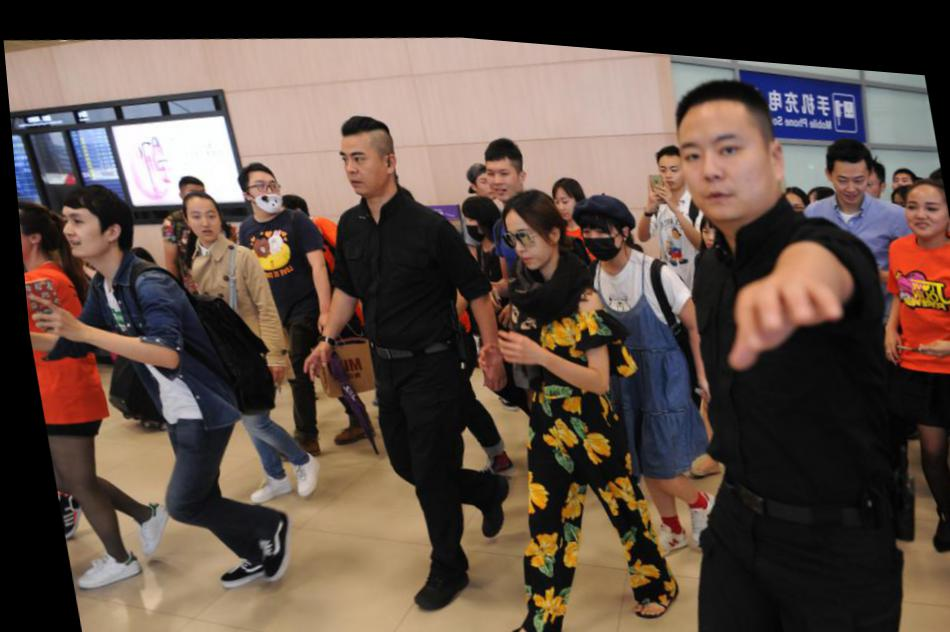NONE: (676, 108, 770, 215), (336, 134, 385, 193), (504, 210, 555, 266), (53, 205, 101, 262), (903, 180, 947, 223), (831, 153, 869, 194), (182, 202, 220, 242), (482, 156, 515, 195), (655, 149, 683, 182), (550, 182, 576, 214), (470, 165, 496, 193), (695, 213, 718, 244)
OK: (575, 206, 621, 251), (460, 205, 485, 236)
WRONG: (244, 167, 284, 210)
